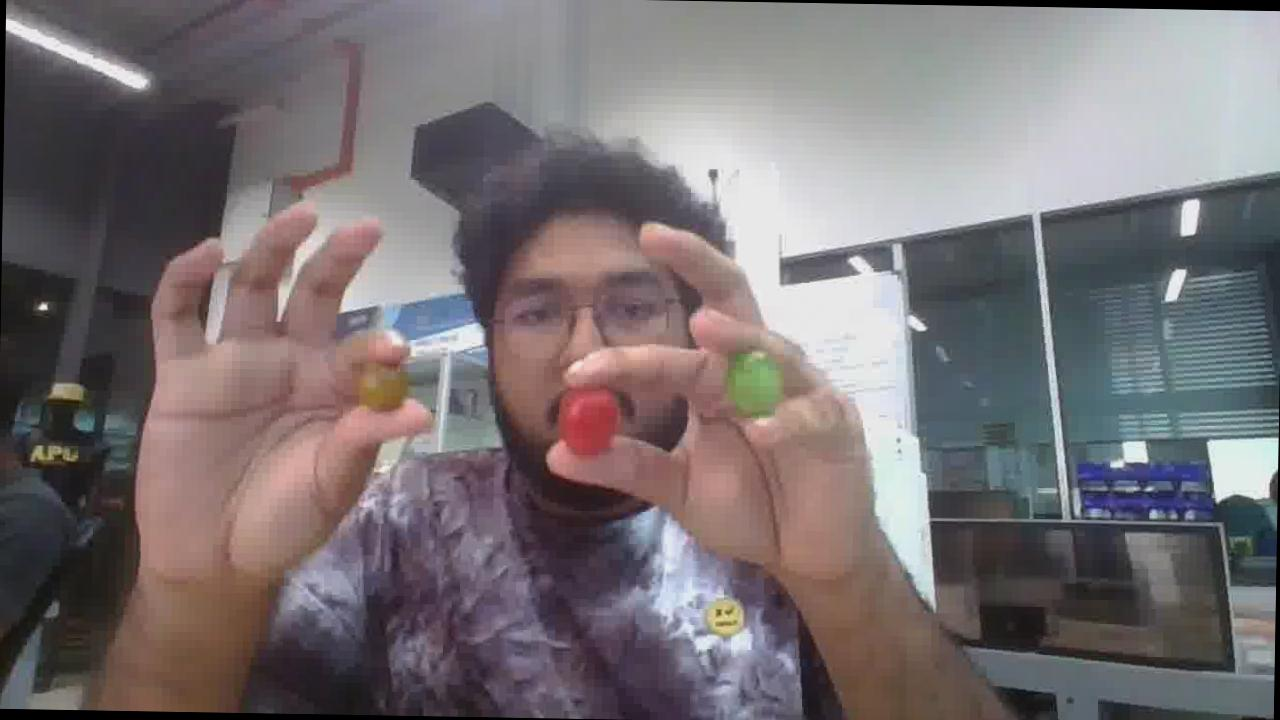green_cherry_tomato: (727, 351, 781, 417)
red_cherry_tomato: (557, 389, 619, 456)
yellow_cherry_tomato: (359, 363, 408, 411)
